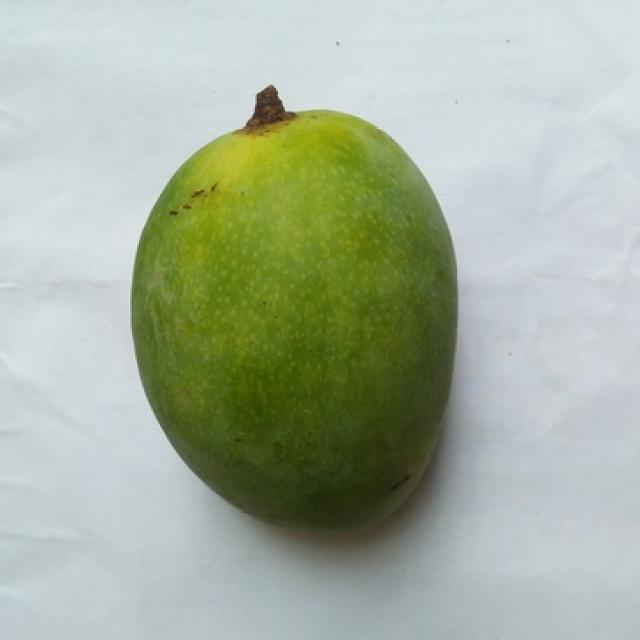Mango: (132, 88, 455, 530)
